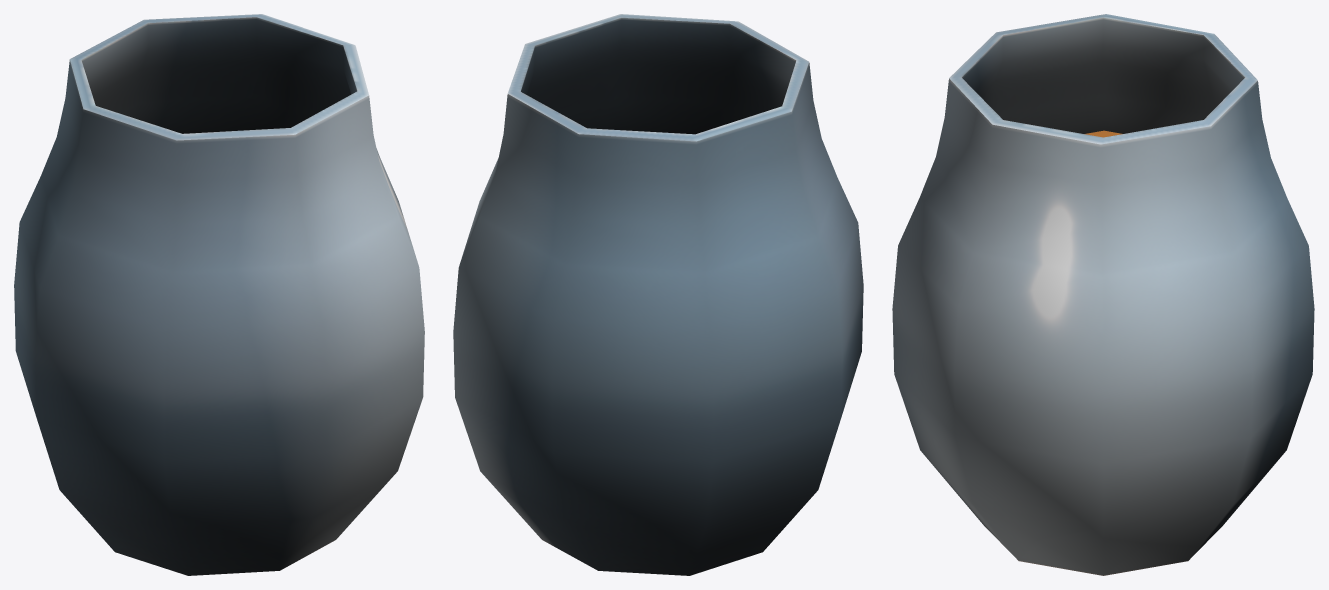
The model's file is Schlammsprudel_Cocktail.glb.
The picture shows the model from 3 angles, left to right: view 1: azimuth 30°, elevation 25°; view 2: azimuth 150°, elevation 25°; view 3: azimuth 270°, elevation 25°; orthographic projection.
Parts seen in each view (by area): view 1: CocktailGlass.003; view 2: CocktailGlass.003; view 3: CocktailGlass.003.
Part boxes in pixels (box(x1,y1,x2,y2)): CocktailGlass.003: box(14, 14, 424, 575); CocktailGlass.003: box(453, 14, 863, 575); CocktailGlass.003: box(892, 14, 1314, 575).
Size of the model in its own units: 0.0606 by 0.071 by 0.0606.
Materials: 2 (2 with a texture image).
